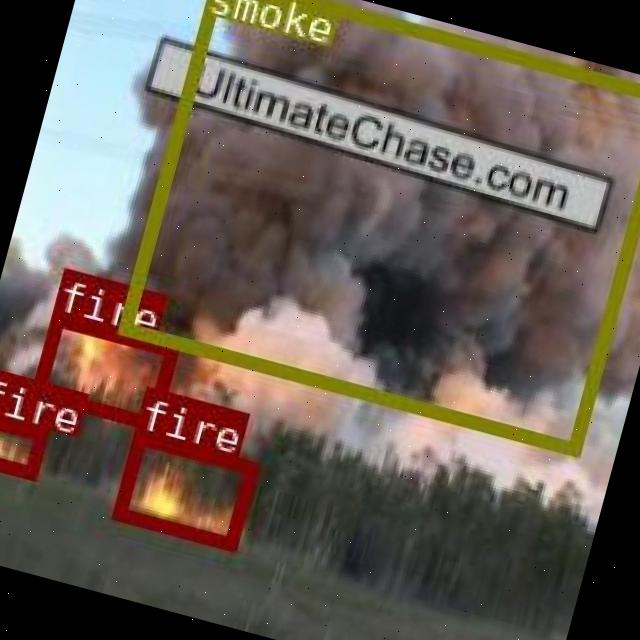fire: (29, 310, 176, 428), (112, 429, 256, 547), (0, 408, 46, 476)
smoke: (115, 0, 640, 453)
